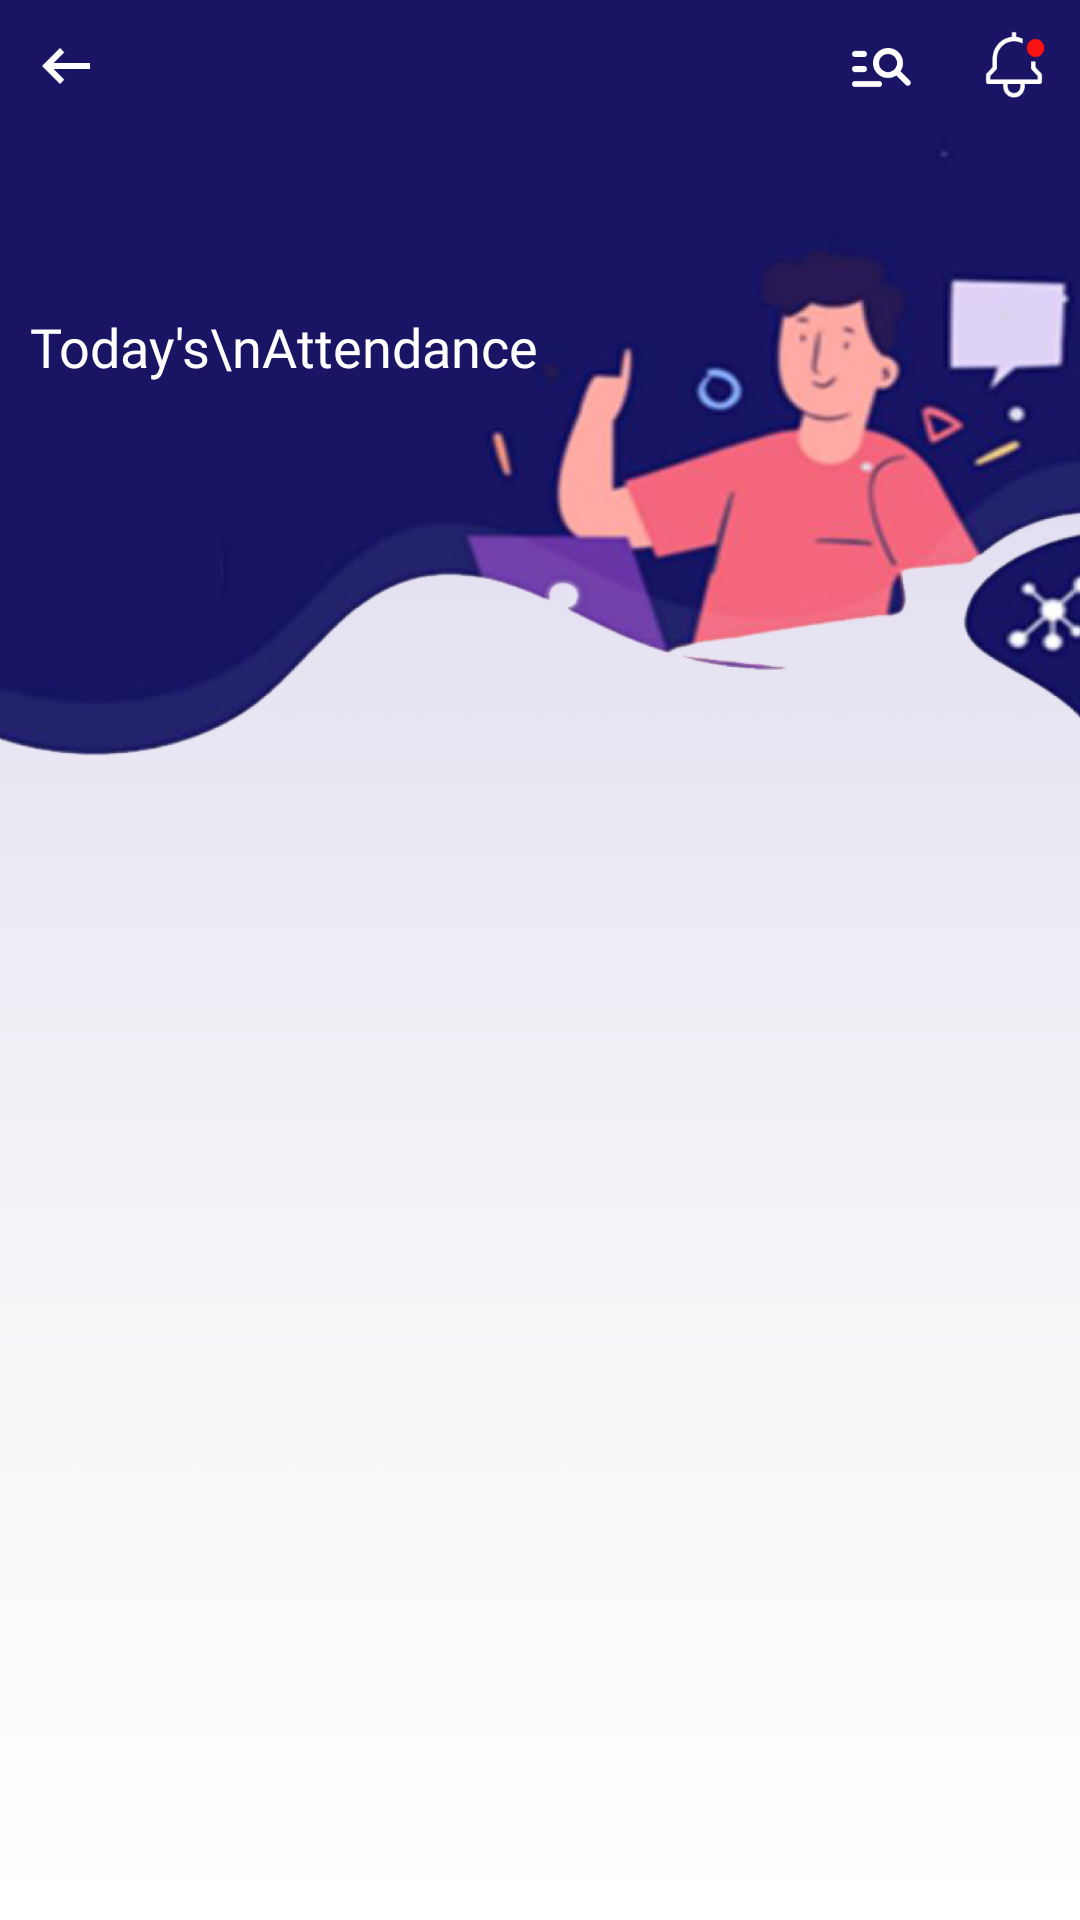

Icons on this 1080*1920 Android screen, each with the point to tap as (x=x, y=y):
back arrow: (x=66, y=66)
notific: (x=1015, y=65)
search: (x=881, y=67)
